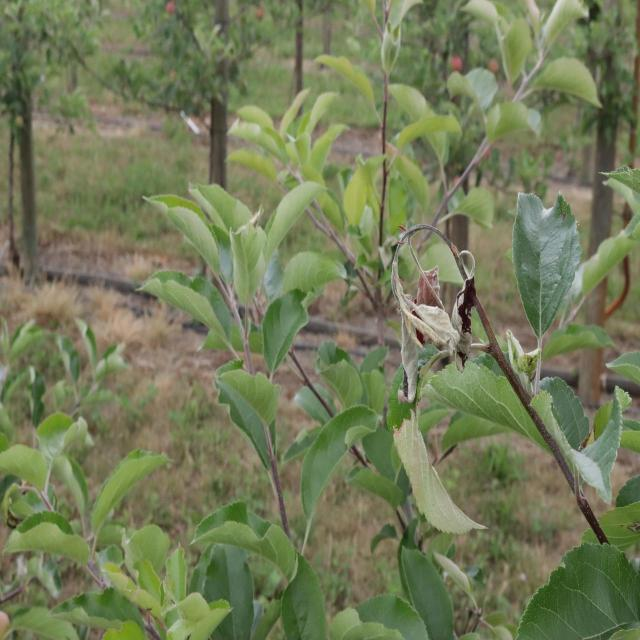-FireBlight-: (388, 216, 478, 402)
